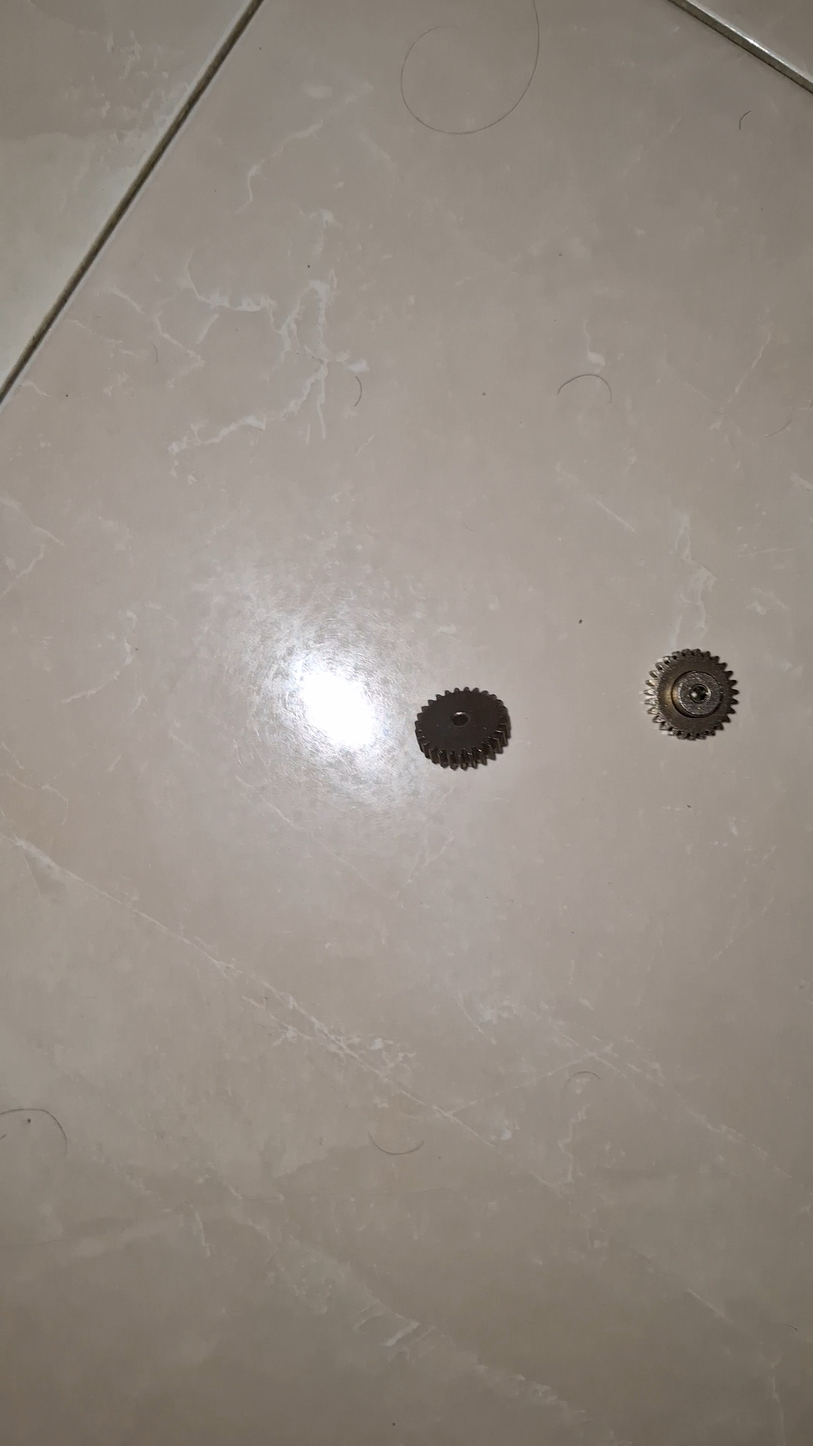spur gear: (644, 649, 737, 739), (415, 688, 510, 769)
